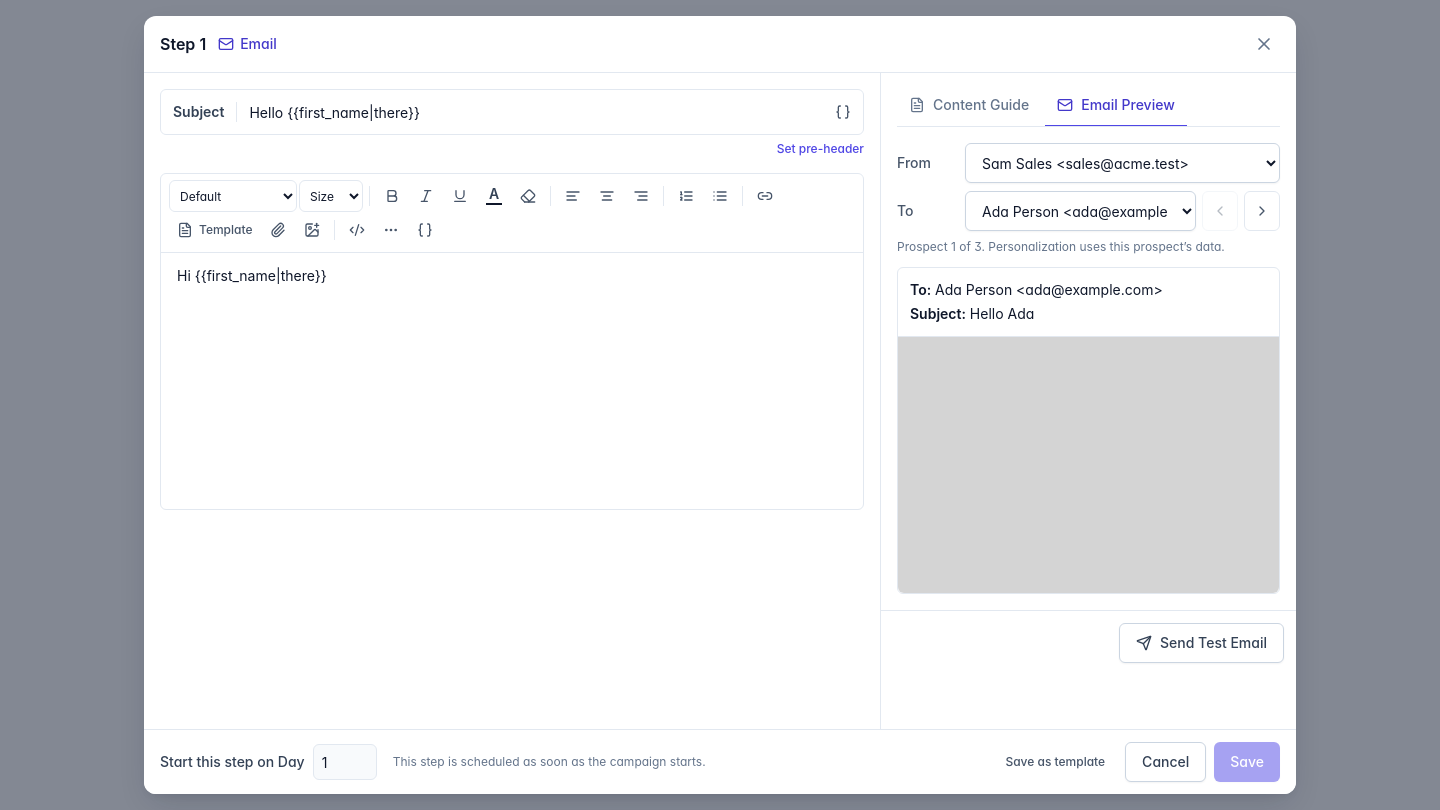
send test email › sends the on-screen content for the previewed prospect from the chosen mailbox
Expected: the text "Hello Ada" is shown, [970,305,1034,322]
Step 1. Click the button named "next prospect" → (1262, 211), box [1244,191,1280,231]
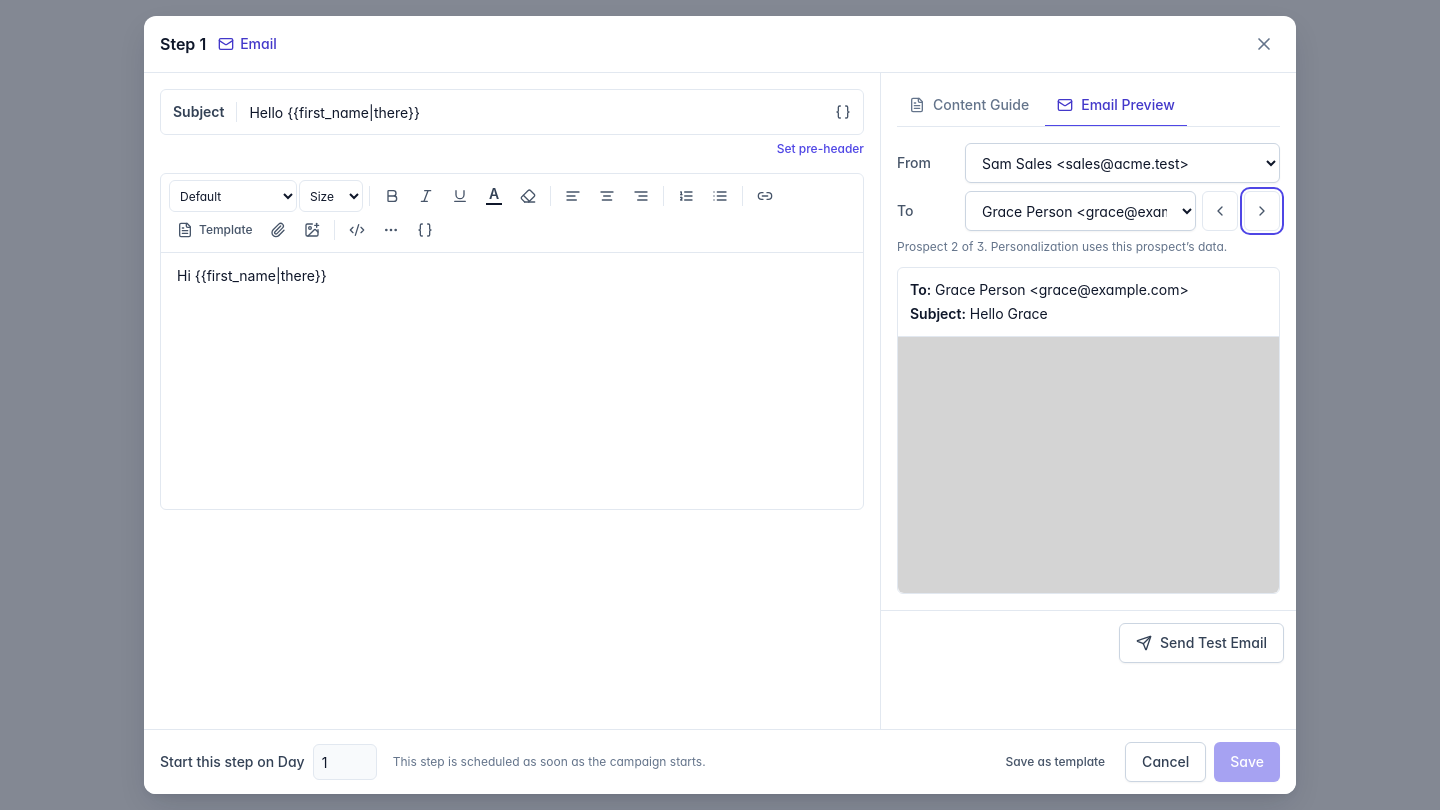
Expected: the text "Hello Grace" is shown, [970,305,1048,322]
Edit the subject without saving: the test must use what is on screen.
Step 2. Replace the text in the field named "subject" with "Unsaved subject" → (532, 112), box [238,90,827,134]
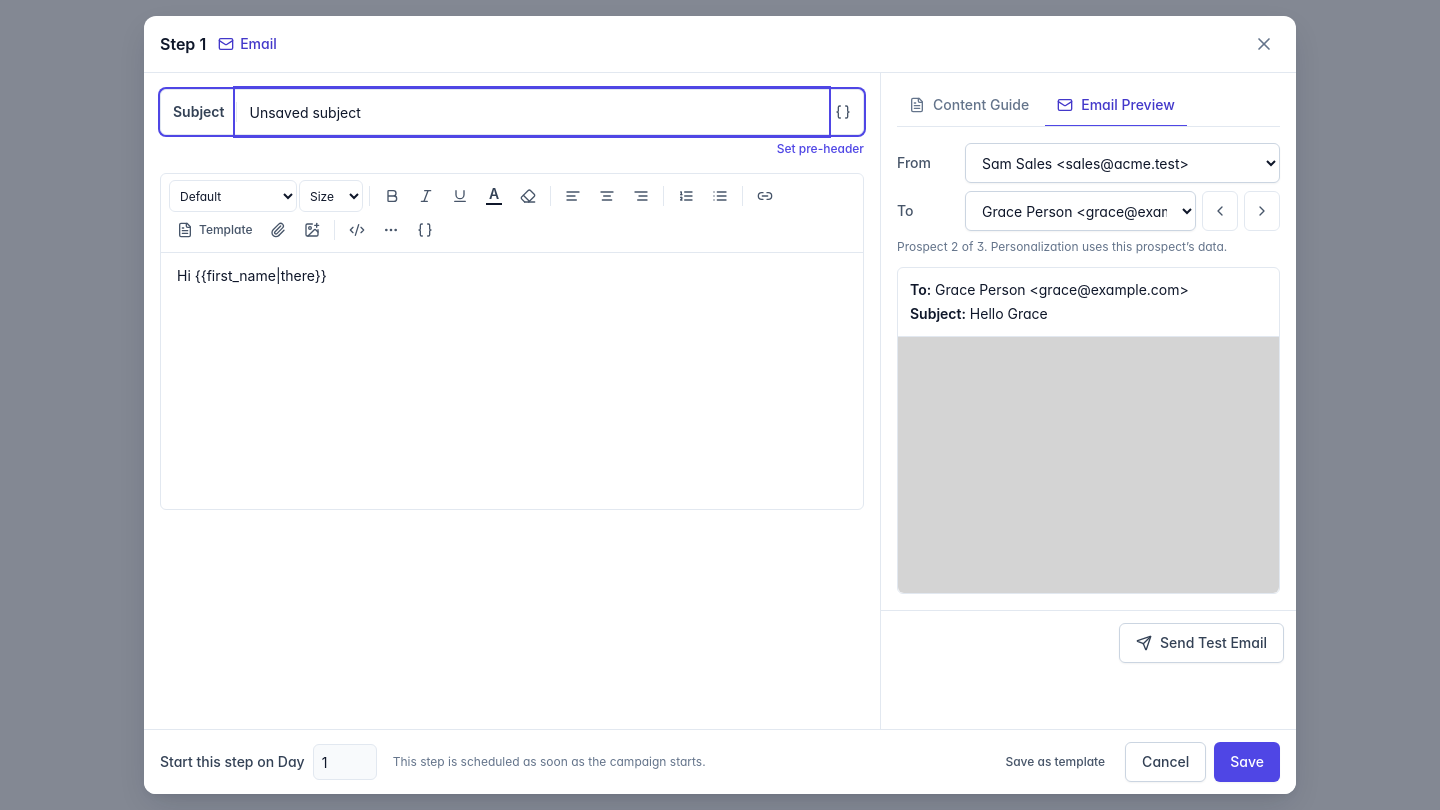
Step 3. Click the button "Send Test Email" → (1202, 643), box [1119,623,1284,663]
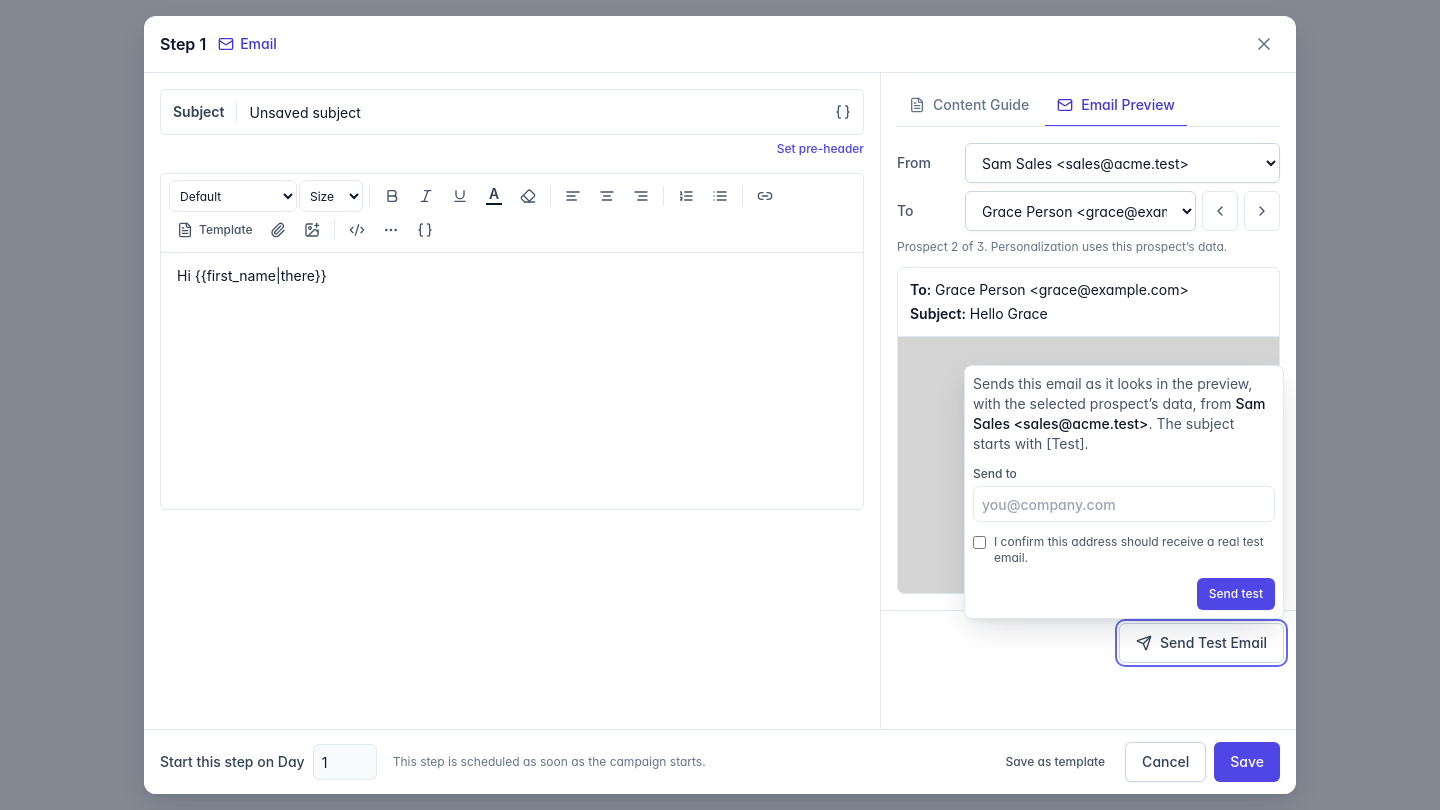
Step 4. Type "qa@example.com" into the field labelled "Send to" → (1124, 504), box [973,486,1275,522]
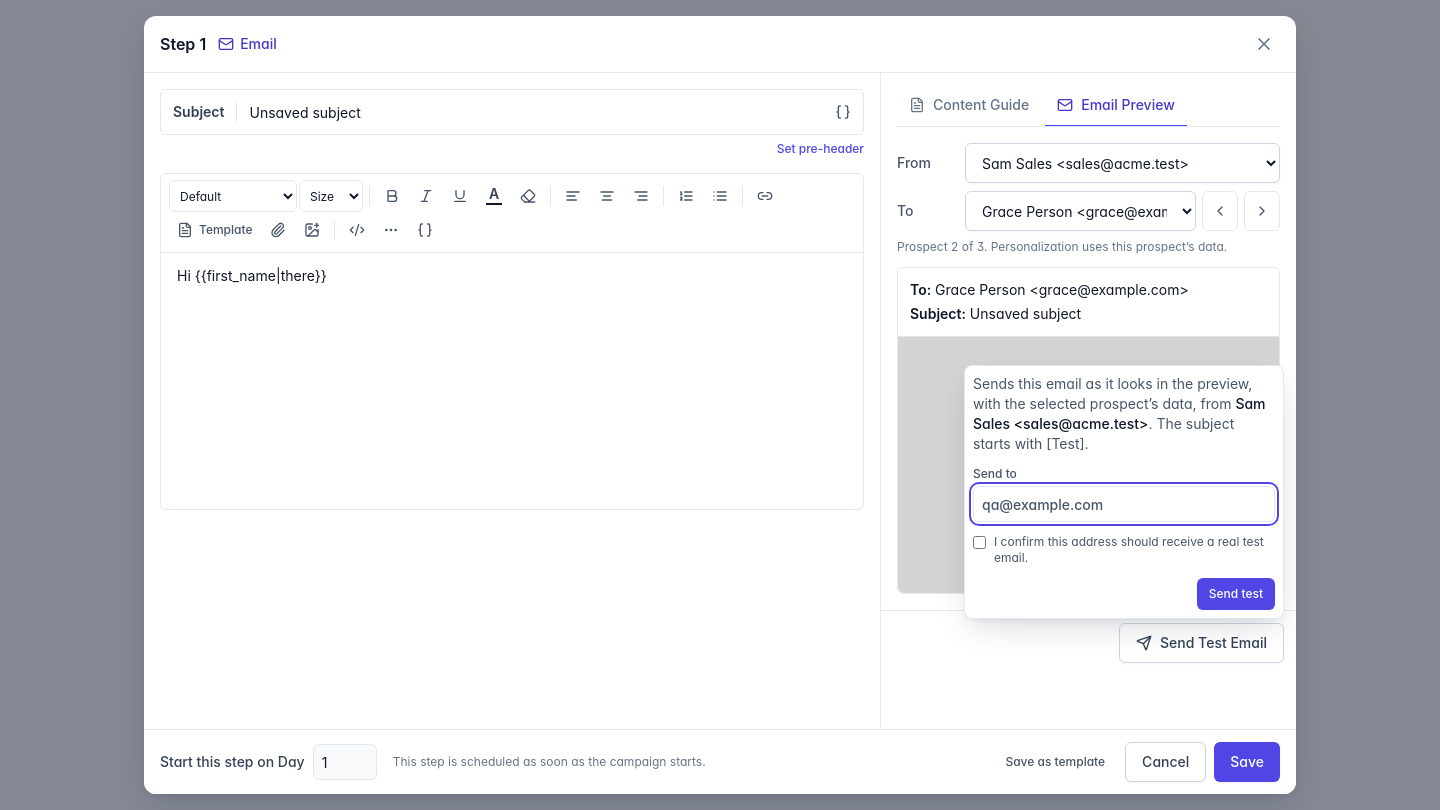
Step 5. Click the checkbox → (980, 542), box [973,536,986,549]
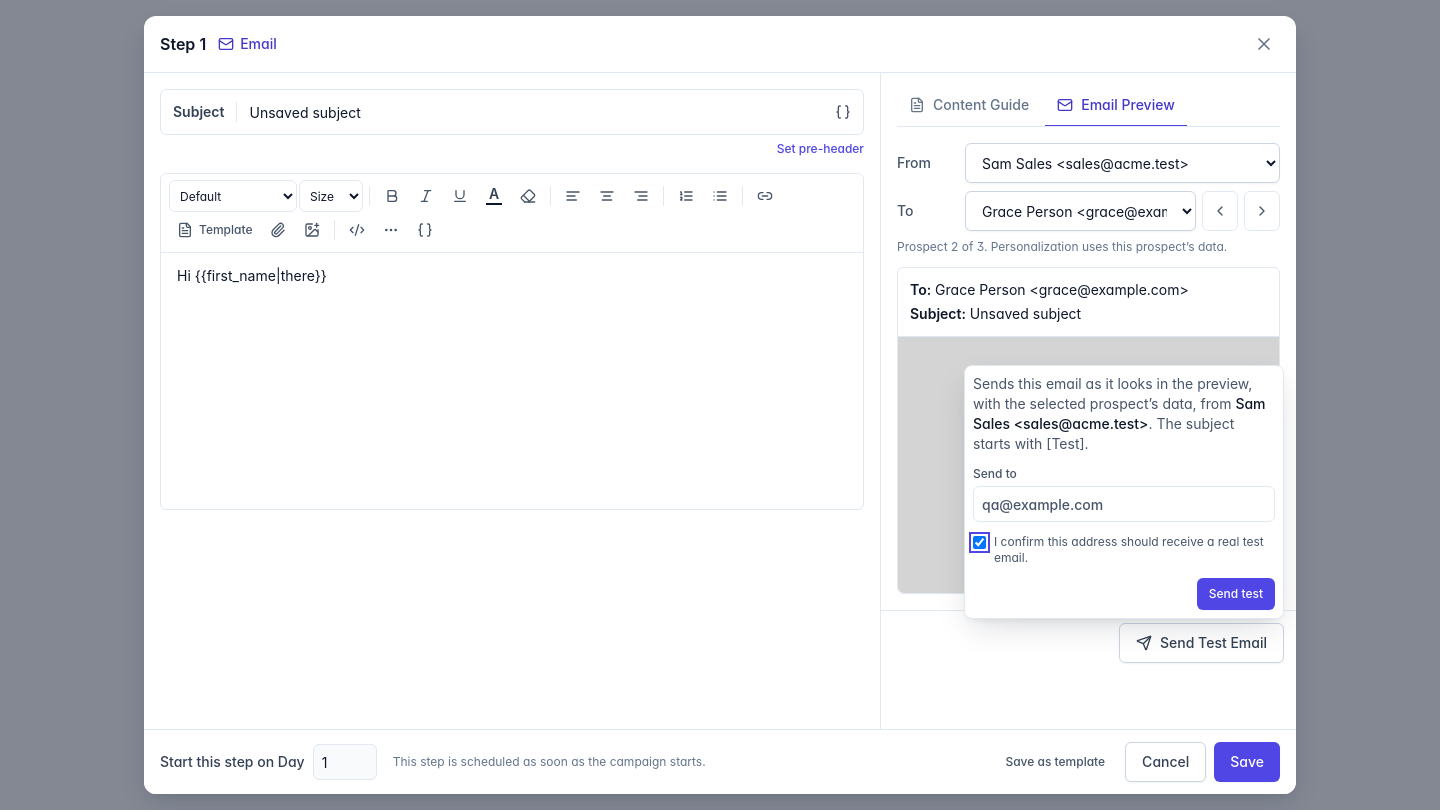
Step 6. Click the button "Send test" → (1236, 594), box [1197,578,1275,610]
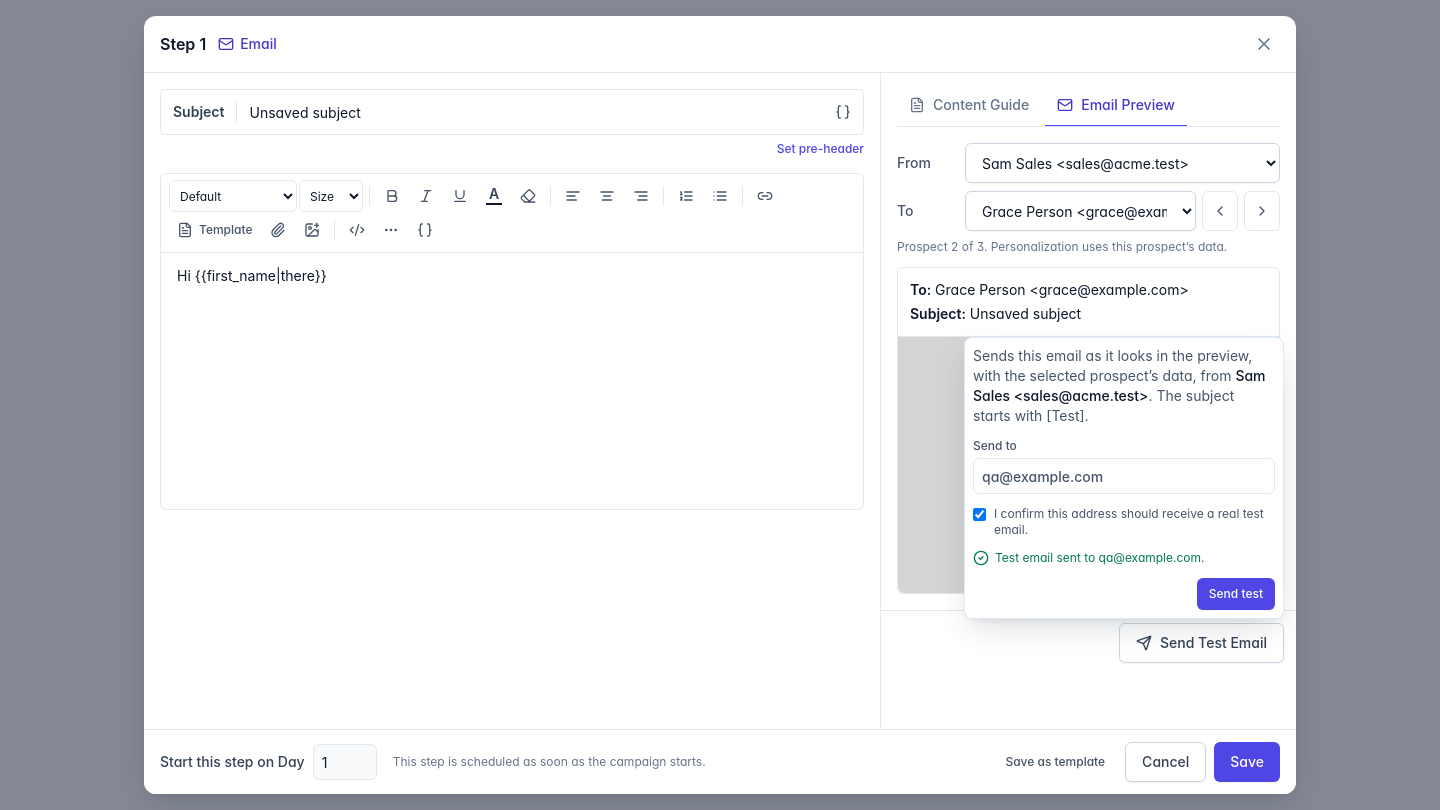
Expected: the text "Test email sent to qa@example.com." is shown, [973,550,1204,566]
